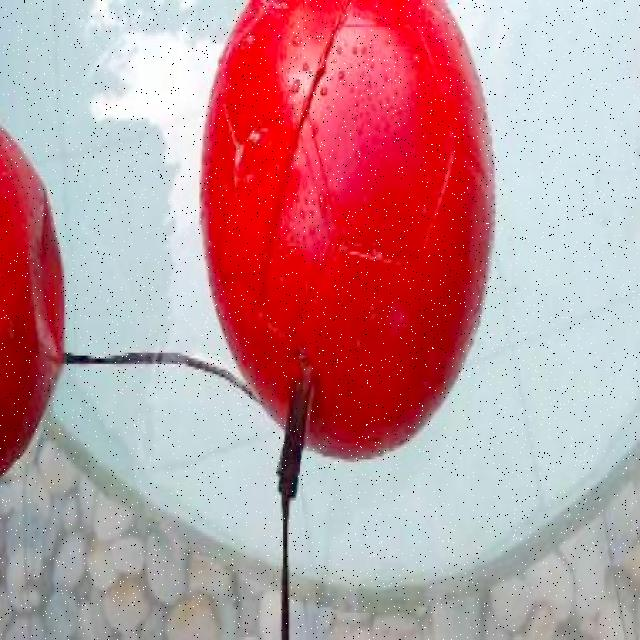buoy: (198, 1, 494, 458), (0, 123, 64, 479)
